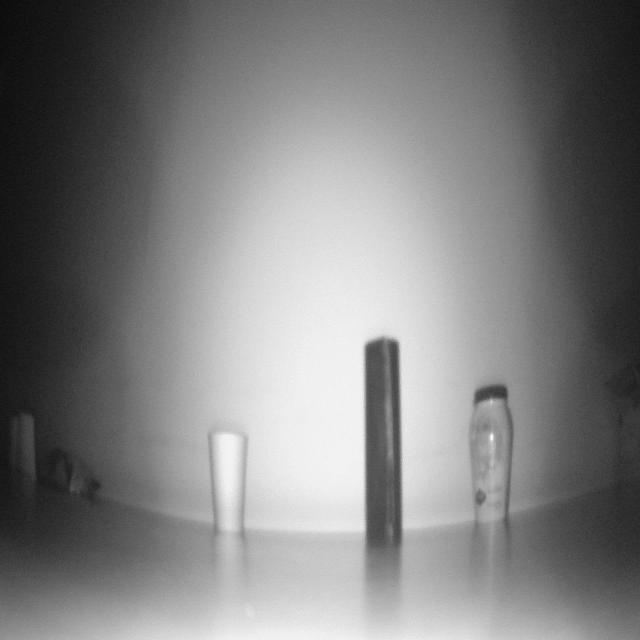targets: (365, 340, 399, 544), (472, 387, 512, 526), (209, 429, 245, 535), (39, 441, 100, 503), (7, 412, 34, 478)
